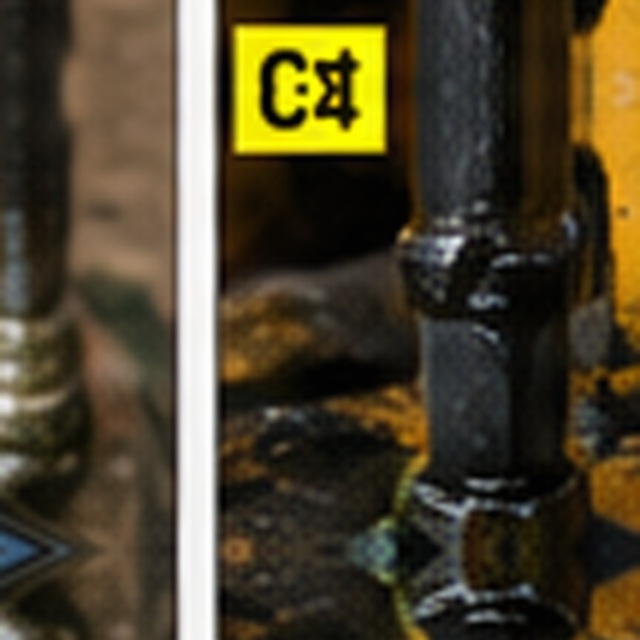hydraulic_oil_leak: (171, 215, 439, 460)
